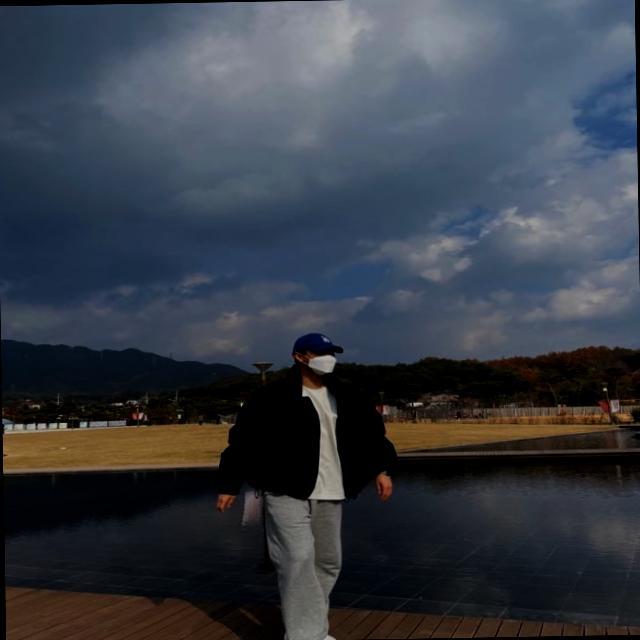padding: (215, 371, 398, 507)
trainingpants: (262, 484, 343, 640)
